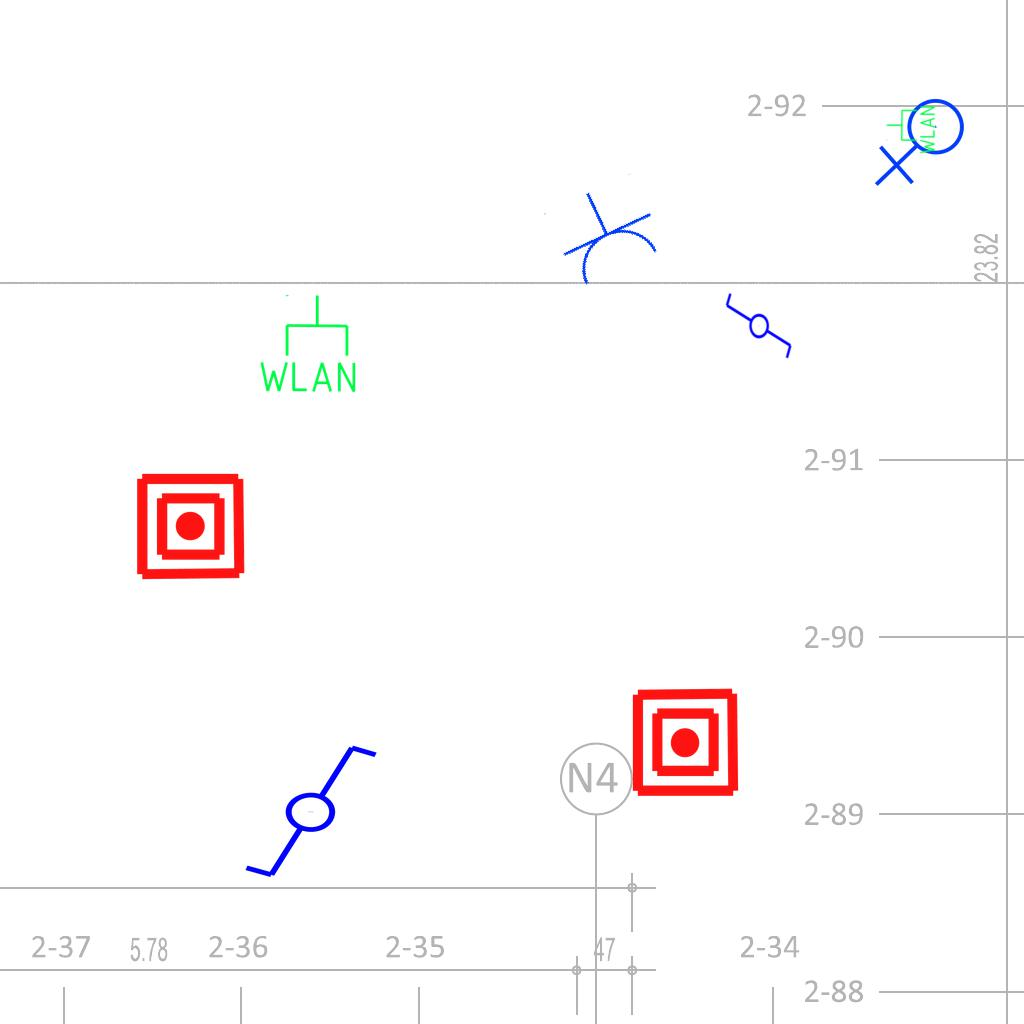Elektroanschluss_allgemein_230V_Geraeteanschlussdose_230V: (874, 97, 973, 191)
NAM-Nichtautomatischer_Melder: (134, 470, 247, 583), (629, 686, 742, 799)
Schukosteckdose_einfach: (541, 171, 669, 294)
WLAN: (255, 292, 360, 396), (885, 104, 937, 156)
Wechselschalter: (224, 738, 381, 882), (722, 291, 794, 369)
